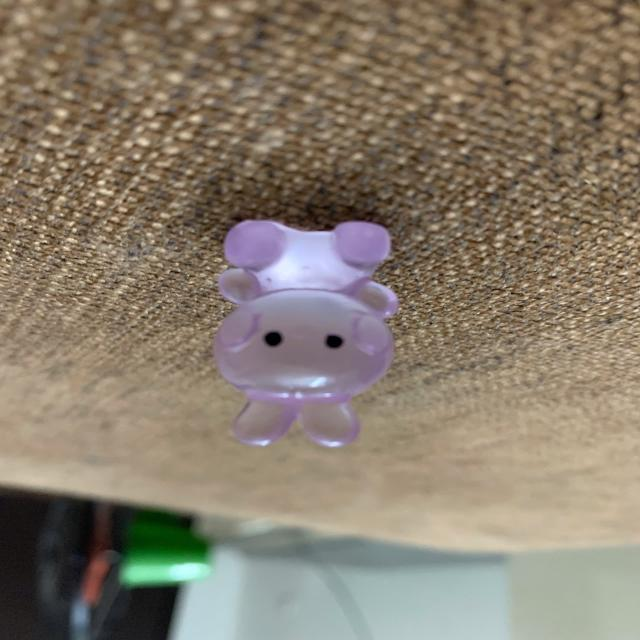Teddy: (212, 218, 400, 448)
